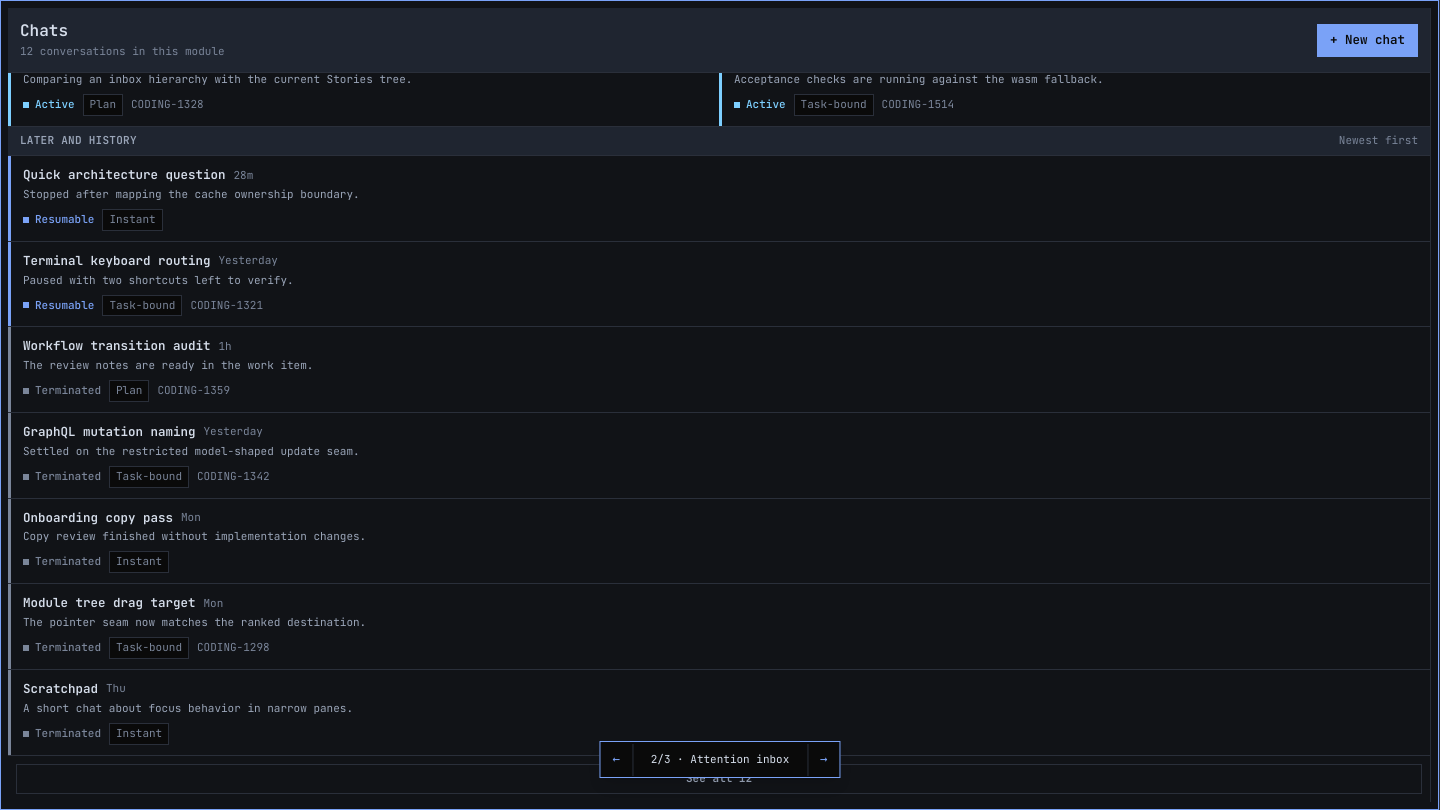
overhaul acceptance - Conversations design prototype › [overhaul-242] caps the inbox design at ten chats
(page scrolled)
Expected: the button "+ New chat" is shown, [1317,24,1418,57]
Click the button "See all 12": click(719, 779) [16,764,1422,794]
(page scrolled)
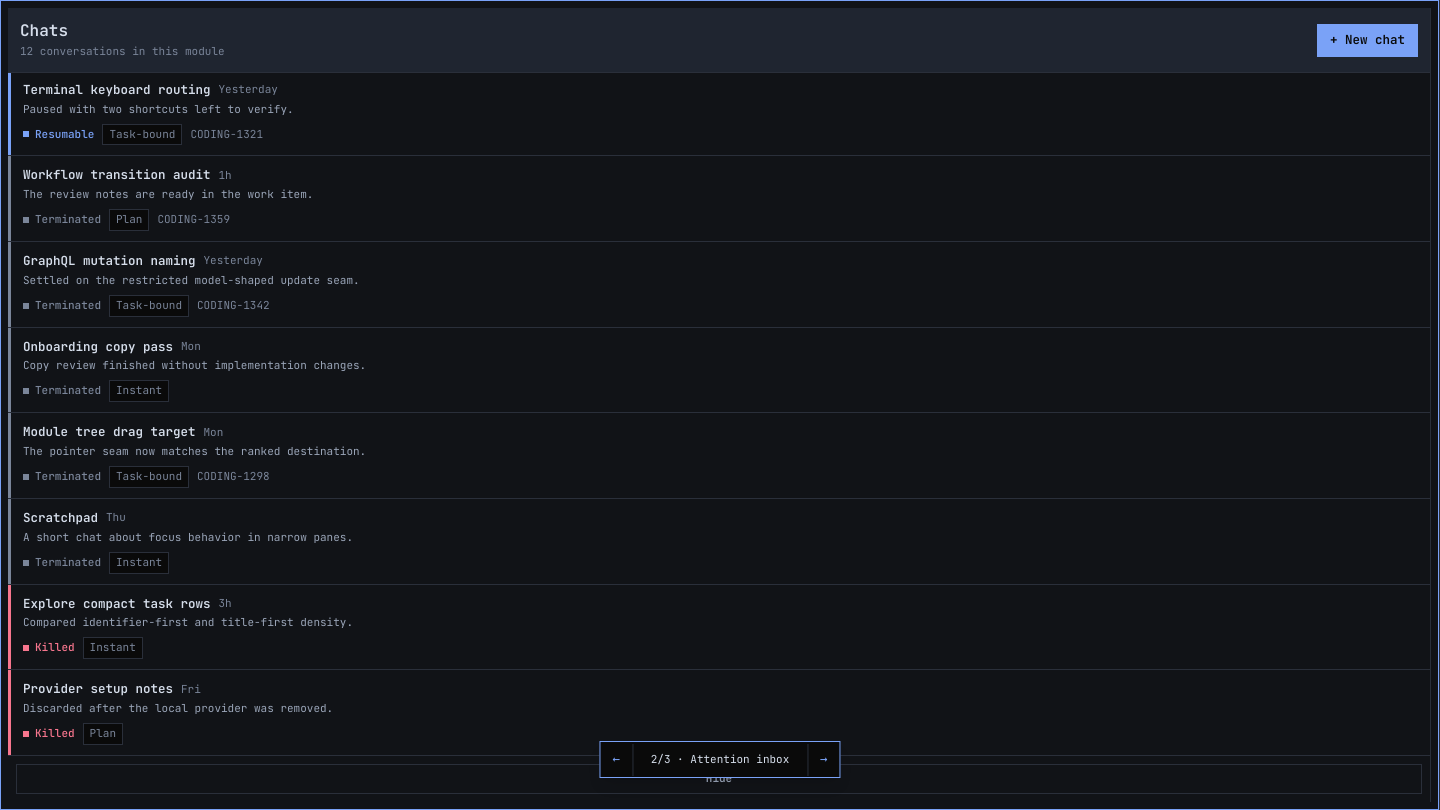
Click the button "Hide": click(719, 779) [16,764,1422,794]
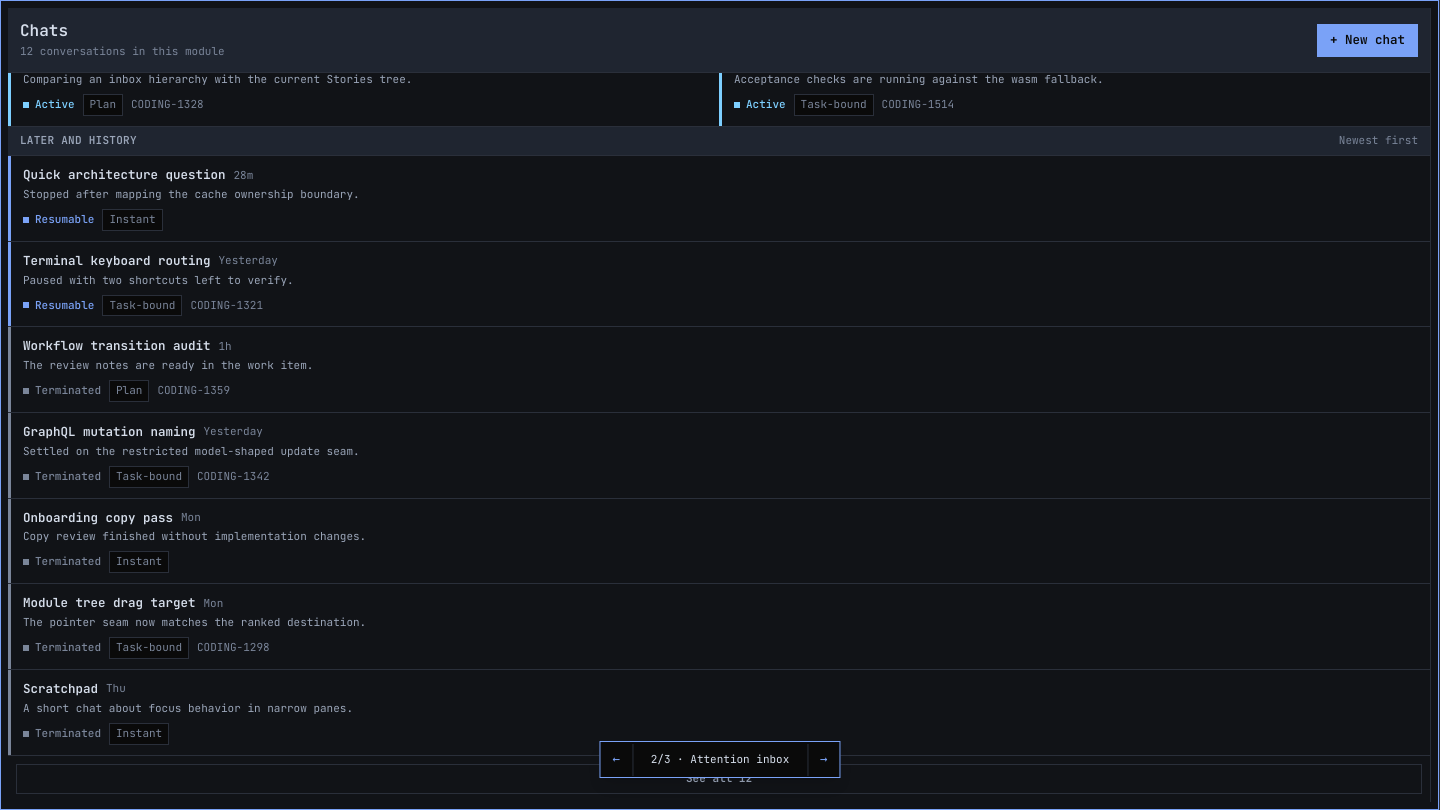
Now the button "See all 12" is shown, box [16,764,1422,794]
